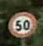limite 50: (7, 11, 36, 38)
